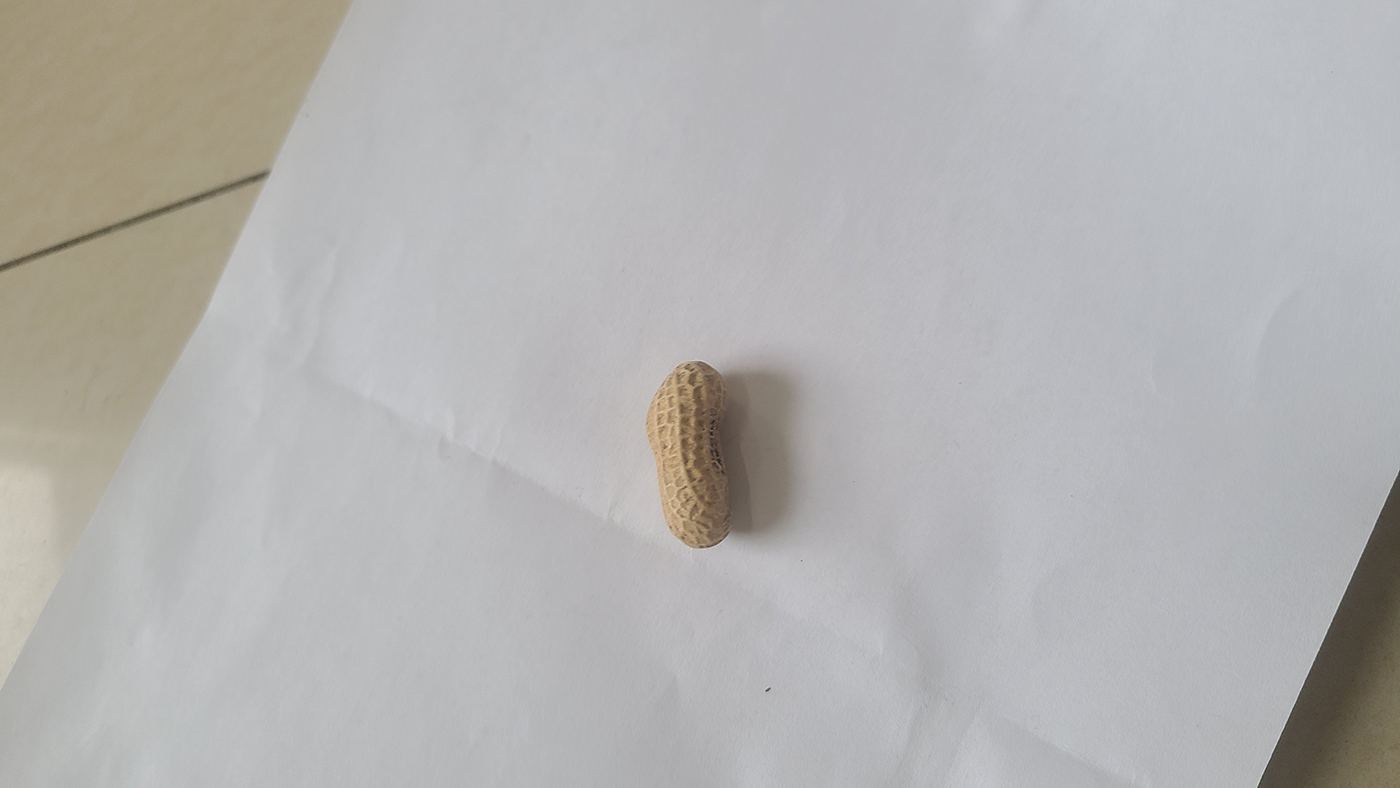h: (644, 360, 733, 548)
